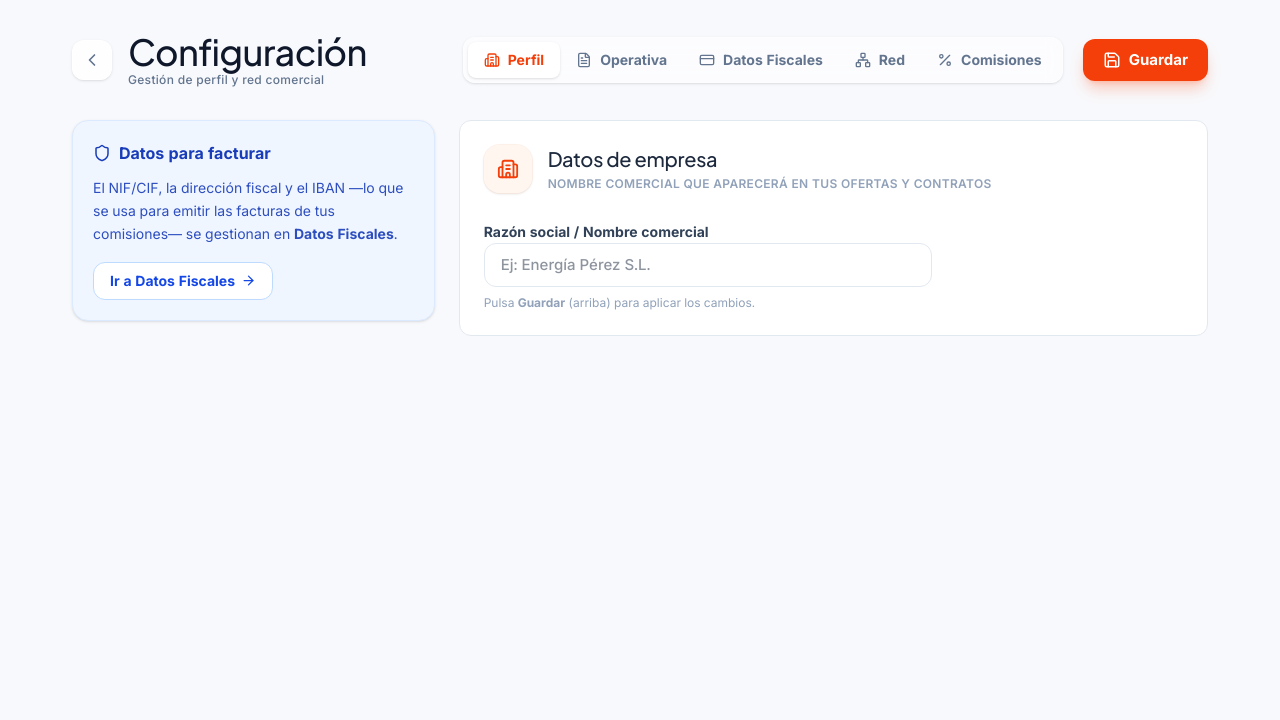
Test: SettingsView — guardar › esconde el botón en la pestaña Red
The width and height of the screenshot is (1280, 720).
Click the button "Red" at (880, 60), box [839,42,921,78]
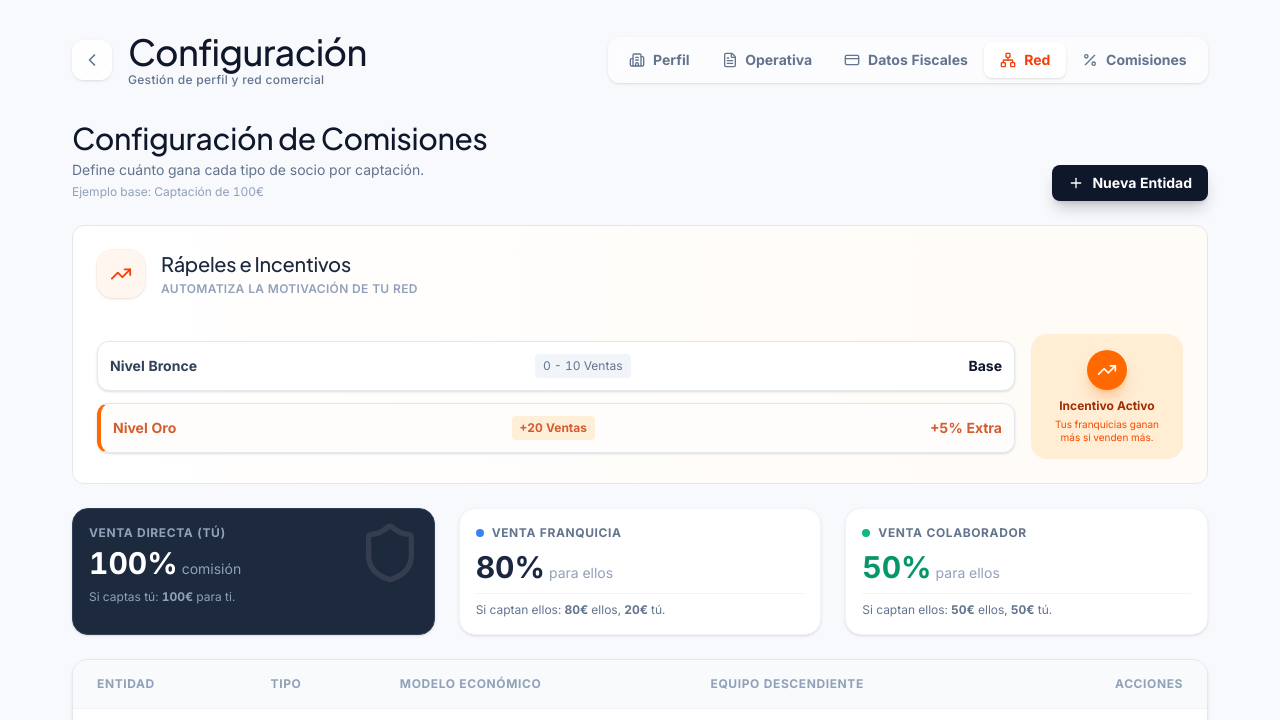
Check: the button "Guardar" is gone
